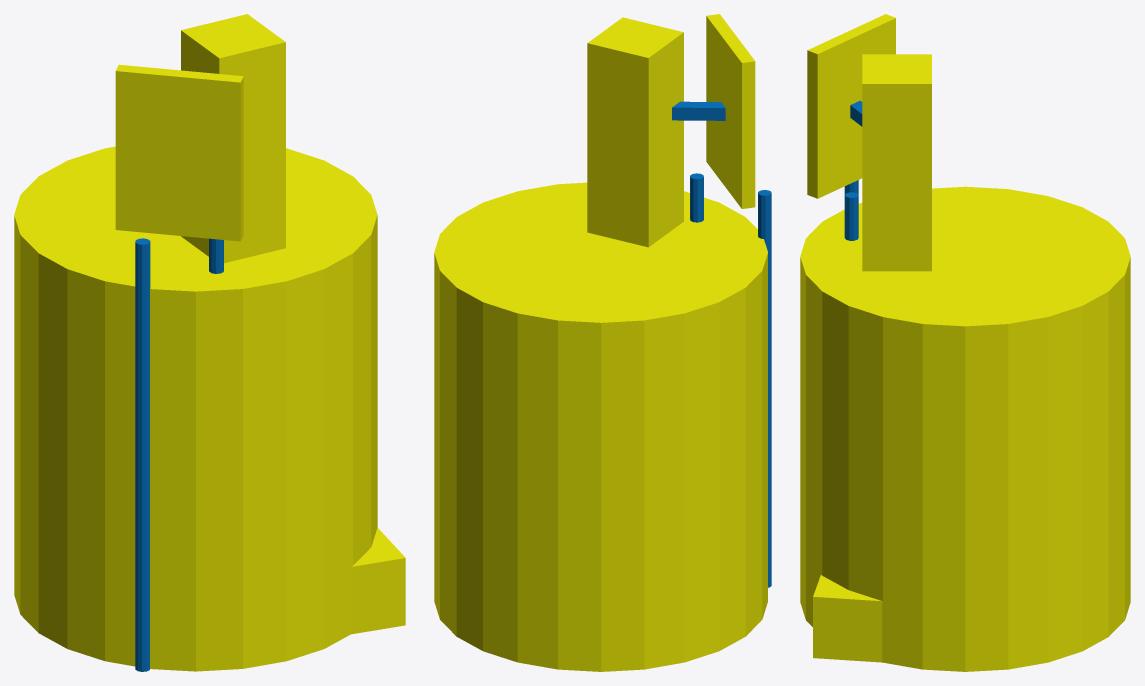
File: folie_tag_071.glb
3 renders of one model, left to right at view 1: azimuth 30°, elevation 25°; view 2: azimuth 150°, elevation 25°; view 3: azimuth 270°, elevation 25°, orthographic. The views are drawn at different scales.
Parts seen in each view (by area): view 1: folie_tag_071_00_drum, folie_tag_071_01_panel, folie_tag_071_core, folie_tag_071_line, folie_tag_071_02_block; view 2: folie_tag_071_00_drum, folie_tag_071_core, folie_tag_071_01_panel, folie_tag_071_line; view 3: folie_tag_071_00_drum, folie_tag_071_core, folie_tag_071_01_panel, folie_tag_071_02_block, folie_tag_071_line.
Part boxes in pixels (x1=…): folie_tag_071_00_drum: x1=14, y1=146, x2=377, y2=671; folie_tag_071_01_panel: x1=115, y1=64, x2=243, y2=241; folie_tag_071_core: x1=181, y1=14, x2=285, y2=263; folie_tag_071_line: x1=135, y1=238, x2=223, y2=671; folie_tag_071_02_block: x1=351, y1=527, x2=405, y2=634; folie_tag_071_00_drum: x1=434, y1=182, x2=767, y2=671; folie_tag_071_core: x1=587, y1=17, x2=683, y2=247; folie_tag_071_01_panel: x1=706, y1=14, x2=755, y2=208; folie_tag_071_line: x1=672, y1=101, x2=771, y2=587; folie_tag_071_00_drum: x1=800, y1=186, x2=1130, y2=671; folie_tag_071_core: x1=862, y1=54, x2=931, y2=271; folie_tag_071_01_panel: x1=807, y1=14, x2=895, y2=198; folie_tag_071_02_block: x1=813, y1=575, x2=882, y2=662; folie_tag_071_line: x1=844, y1=100, x2=862, y2=240.
Bounding box in the file's own units: 5.2 × 9.26 × 5.2.
